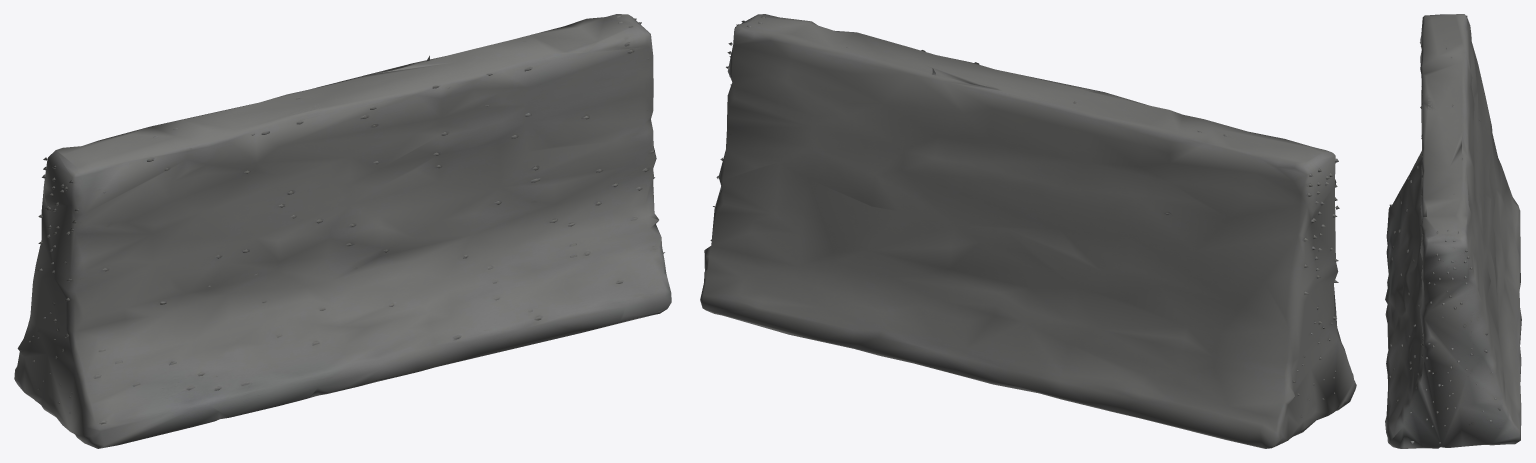
Rendered from prop_concrete_barrier_a.glb.
3 renders of one model, left to right at view 1: azimuth 30°, elevation 25°; view 2: azimuth 150°, elevation 25°; view 3: azimuth 270°, elevation 25°, orthographic. The views are drawn at different scales.
Parts seen in each view (by area): view 1: tripo_node_204f97ed-5615-4473-a8fd-dfc992cfe3fc; view 2: tripo_node_204f97ed-5615-4473-a8fd-dfc992cfe3fc; view 3: tripo_node_204f97ed-5615-4473-a8fd-dfc992cfe3fc.
Boxes of the visible parts, <box> form: tripo_node_204f97ed-5615-4473-a8fd-dfc992cfe3fc: <box>14,14,671,448</box>; tripo_node_204f97ed-5615-4473-a8fd-dfc992cfe3fc: <box>700,14,1356,448</box>; tripo_node_204f97ed-5615-4473-a8fd-dfc992cfe3fc: <box>1385,14,1521,448</box>.
Size of the model in its own units: 2.4 by 1.05 by 0.6.
Materials: 1 (1 with a texture image).
